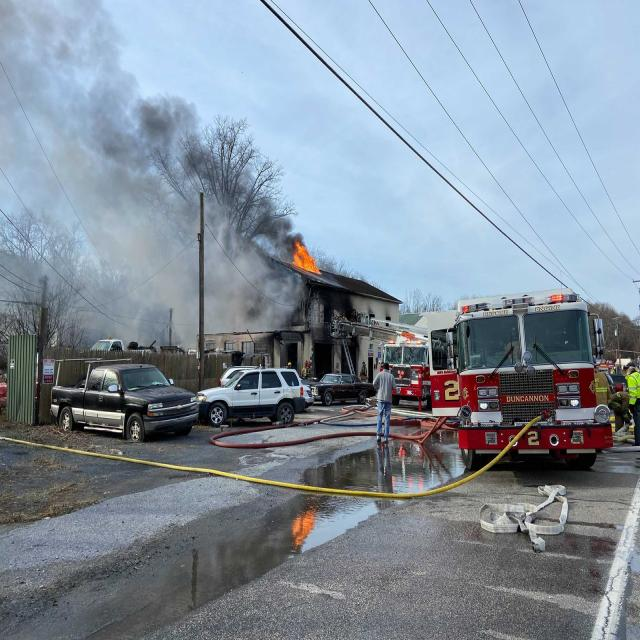smoke: (81, 188, 272, 334), (6, 10, 104, 164)
